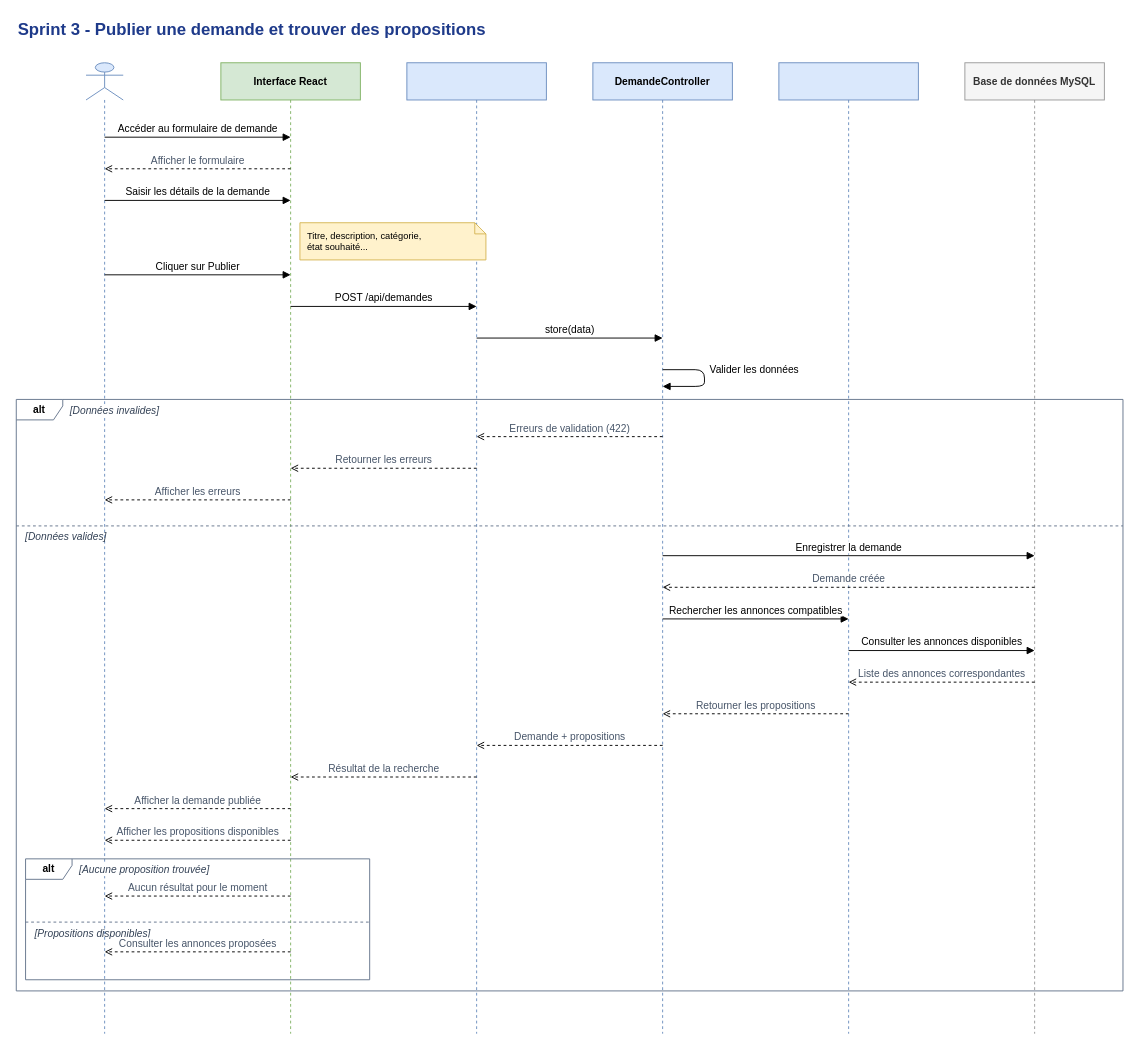
The diagram is 1140 pixels wide and 1050 high, and some of its shapes have lost their labels. Here are the shapes that lost their labels. From the top down, the box of each, then its label:
(85, 62, 123, 1034): Utilisateur
(406, 62, 546, 1034): API Laravel
(778, 62, 918, 1034): Service de recherche
